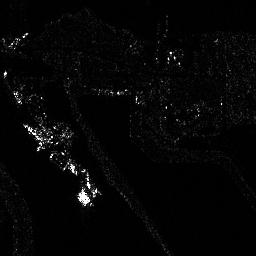ship: (12, 89, 24, 106)
